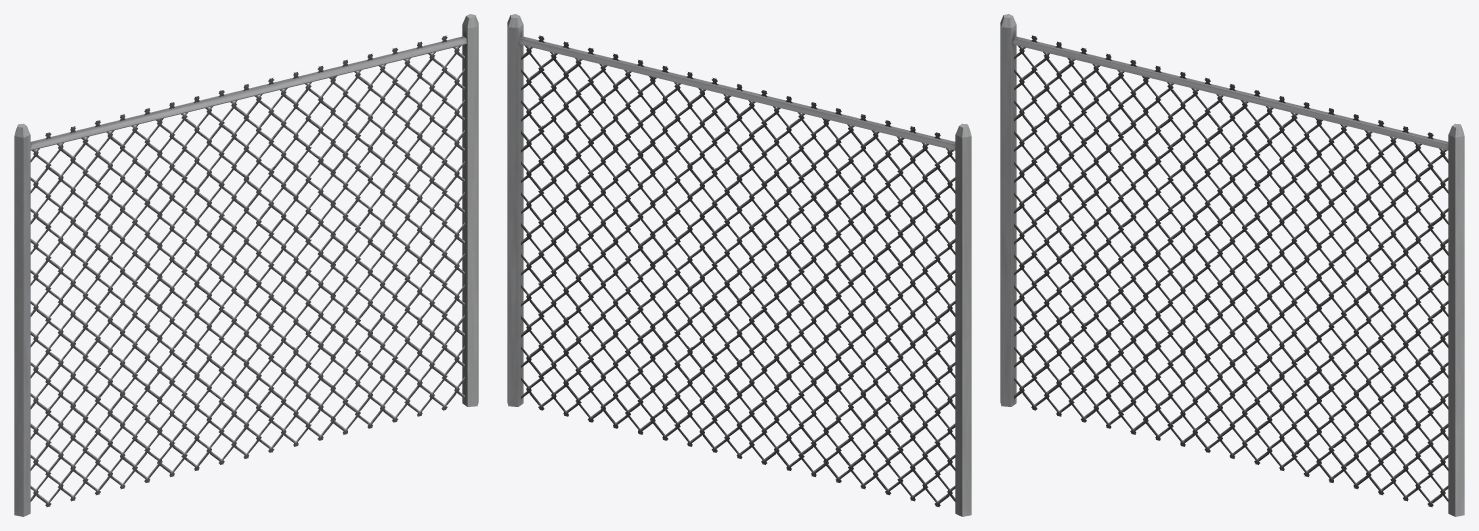
The model's file is Chain Fence 1.fbx.
The picture shows the model from 3 angles, left to right: view 1: azimuth 30°, elevation 25°; view 2: azimuth 150°, elevation 25°; view 3: azimuth 330°, elevation 25°; orthographic projection.
Parts seen in each view (by area): view 1: Chain Fence1; view 2: Chain Fence1; view 3: Chain Fence1.
Boxes of the visible parts, bbox=[...] form: Chain Fence1: bbox=[14, 14, 478, 516]; Chain Fence1: bbox=[507, 14, 971, 516]; Chain Fence1: bbox=[1000, 14, 1464, 516].
Bounding box in the file's own units: 308 × 246 × 9.51.
